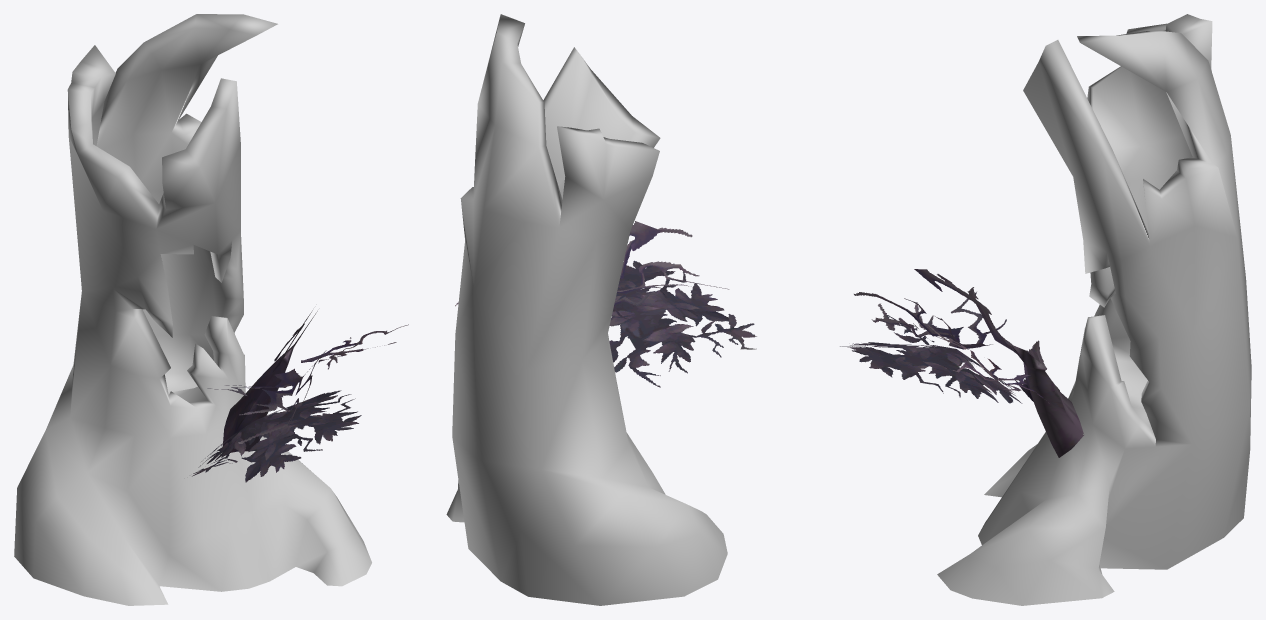
The model's file is TwistedJungle_Tree04.FBX.
3 renders of one model, left to right at view 1: azimuth 30°, elevation 25°; view 2: azimuth 150°, elevation 25°; view 3: azimuth 270°, elevation 25°, orthographic. The views are drawn at different scales.
Visible parts, largest first — view 1: TwistedJungle_Tree04; view 2: TwistedJungle_Tree04; view 3: TwistedJungle_Tree04.
Boxes of the visible parts, <box> form: TwistedJungle_Tree04: <box>14,14,408,605</box>; TwistedJungle_Tree04: <box>446,14,756,605</box>; TwistedJungle_Tree04: <box>840,14,1251,605</box>.
Size of the model in its own units: 263 by 402 by 303.
